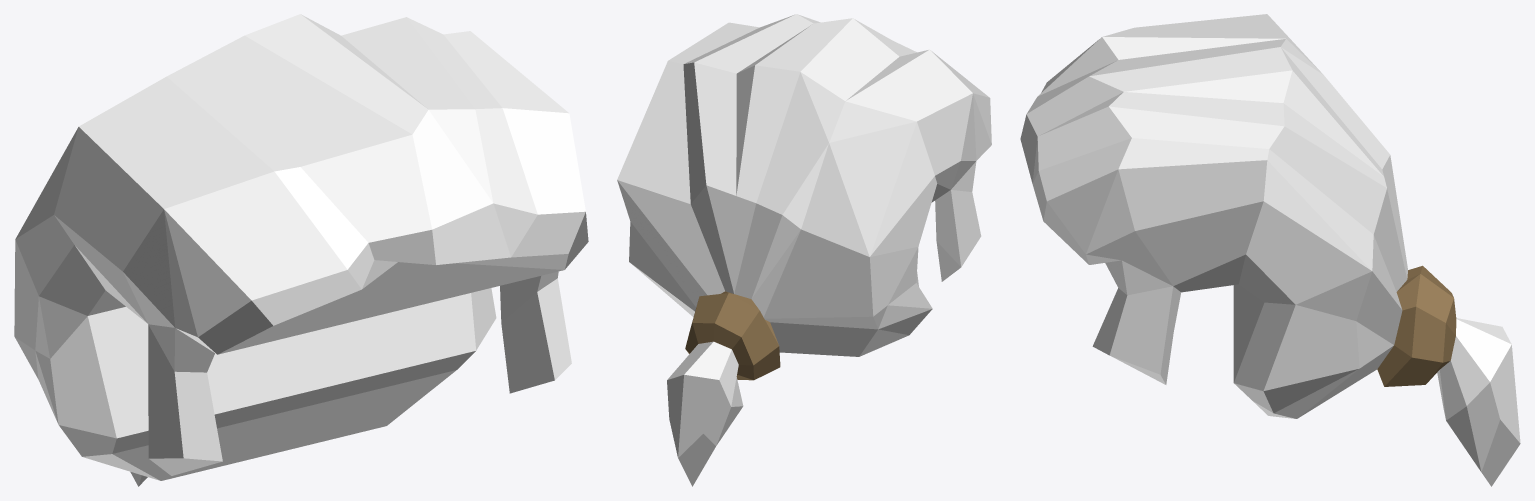
File: SM_Chr_Attach_Hair_M_01.fbx
3 views of the same model, side by side, from view 1: azimuth 30°, elevation 25°; view 2: azimuth 150°, elevation 25°; view 3: azimuth 270°, elevation 25° (orthographic). The views are drawn at different scales.
Parts seen in each view (by area): view 1: SM_Chr_Attach_Hair_M_01; view 2: SM_Chr_Attach_Hair_M_01; view 3: SM_Chr_Attach_Hair_M_01.
Boxes of the visible parts, x1=… form: SM_Chr_Attach_Hair_M_01: x1=14, y1=14, x2=588, y2=486; SM_Chr_Attach_Hair_M_01: x1=617, y1=14, x2=991, y2=486; SM_Chr_Attach_Hair_M_01: x1=1020, y1=14, x2=1520, y2=486.
Size of the model in its own units: 26 by 31.52 by 33.34.
